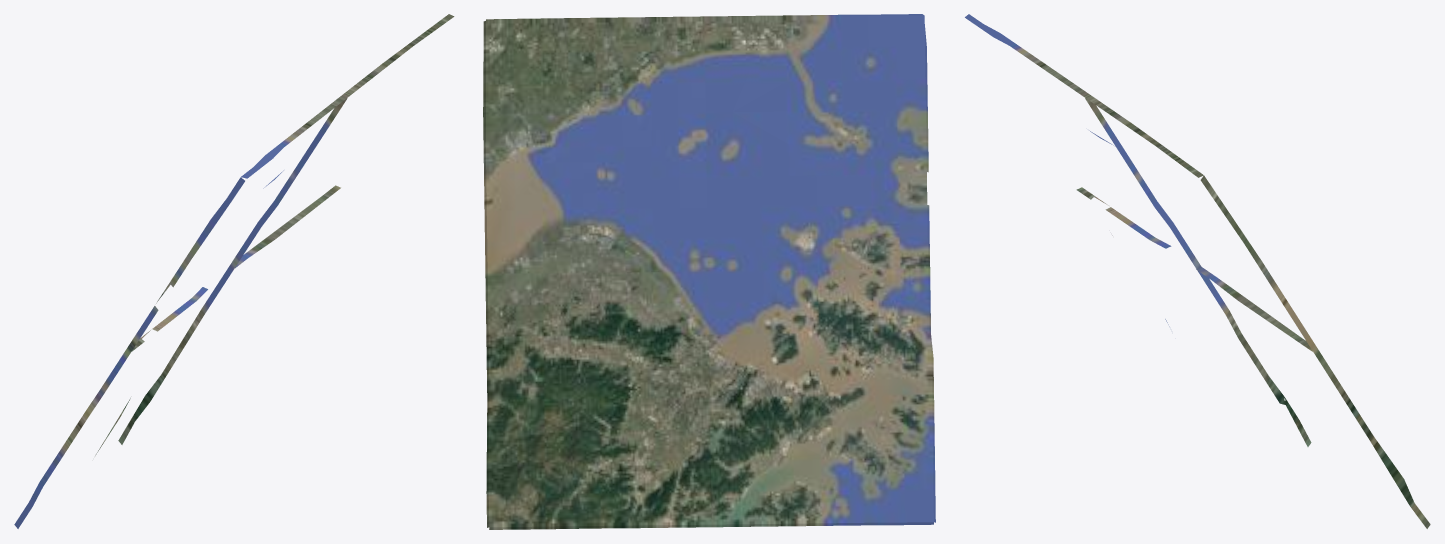
The picture shows the model from 3 angles, left to right: view 1: azimuth 30°, elevation 25°; view 2: azimuth 150°, elevation 25°; view 3: azimuth 270°, elevation 25°; orthographic projection. The views are drawn at different scales.
Bounding box in the file's own units: 158331 × 137199 × 140564.
1 material, 1 textured.
